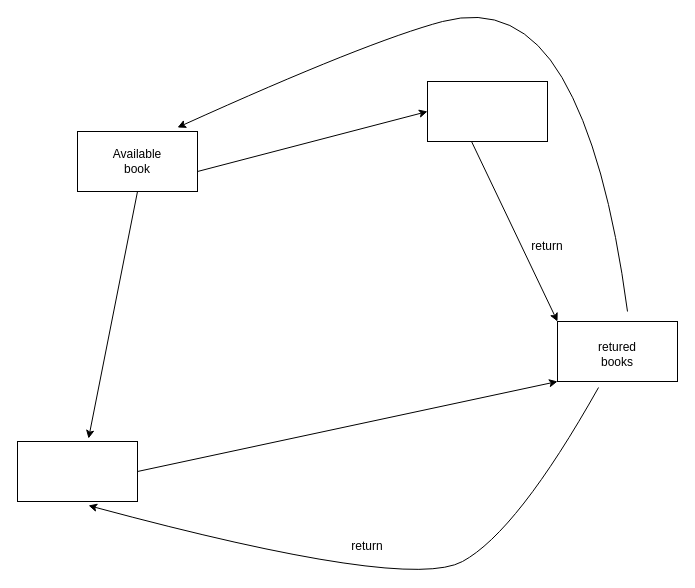
Image size: 695x588. Some labels were removed from this diagram. The centre of each missing label's shape, as x and y in pixels:
get books: point (77, 471)
Issued books: point (487, 111)
